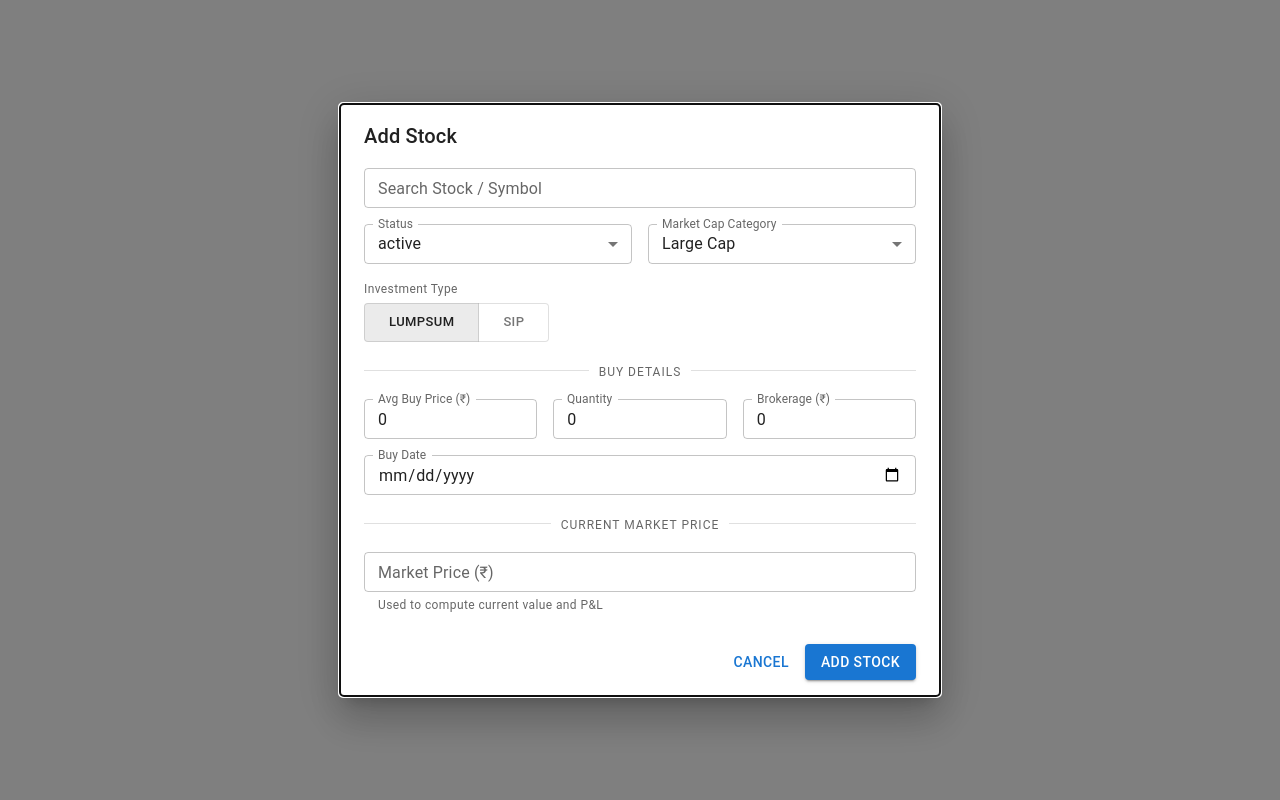
it: StocksDialog › SIP avgPrice=0 branch shows '—' when quantity=0 (L231)
The image size is (1280, 800).
Click the button "SIP" at (514,323), box [478,304,549,342]
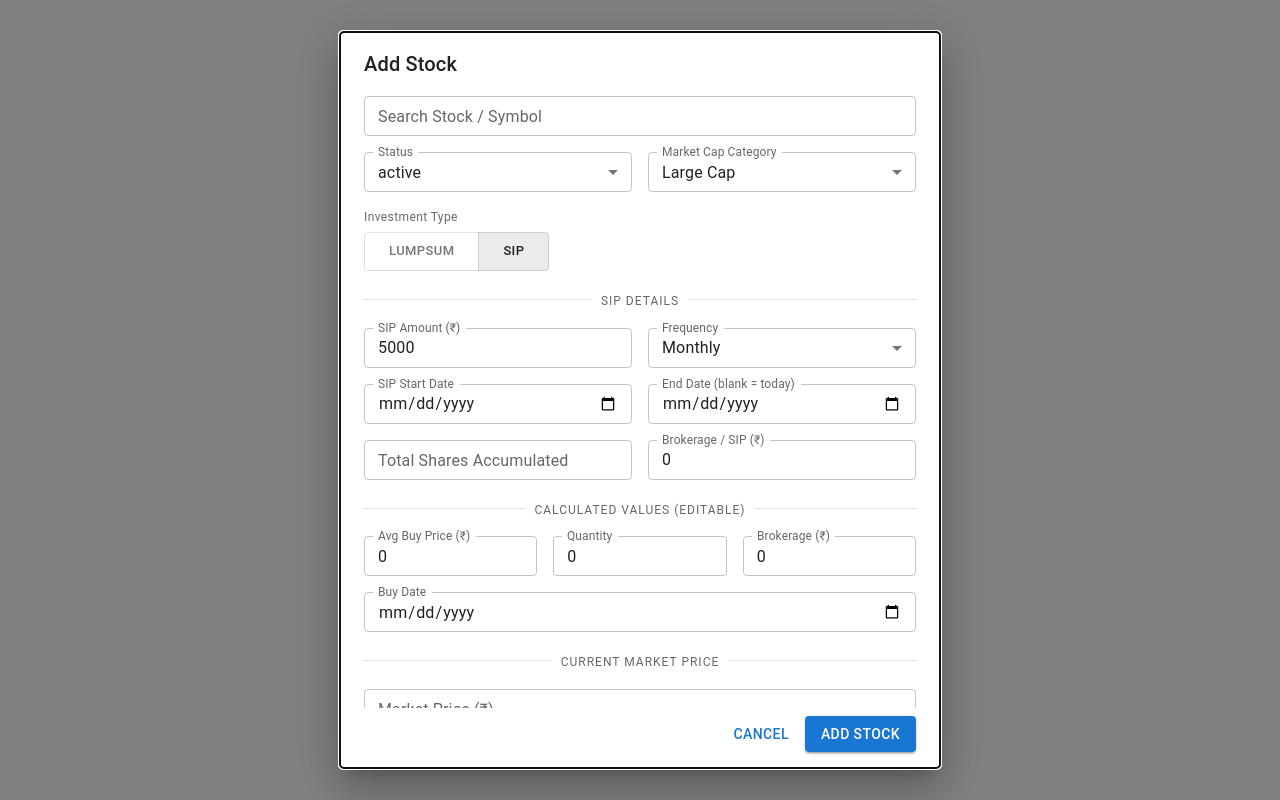
Type "2020-01-01" into the date field labelled "SIP Start Date" at (498,404), box [364,384,632,424]
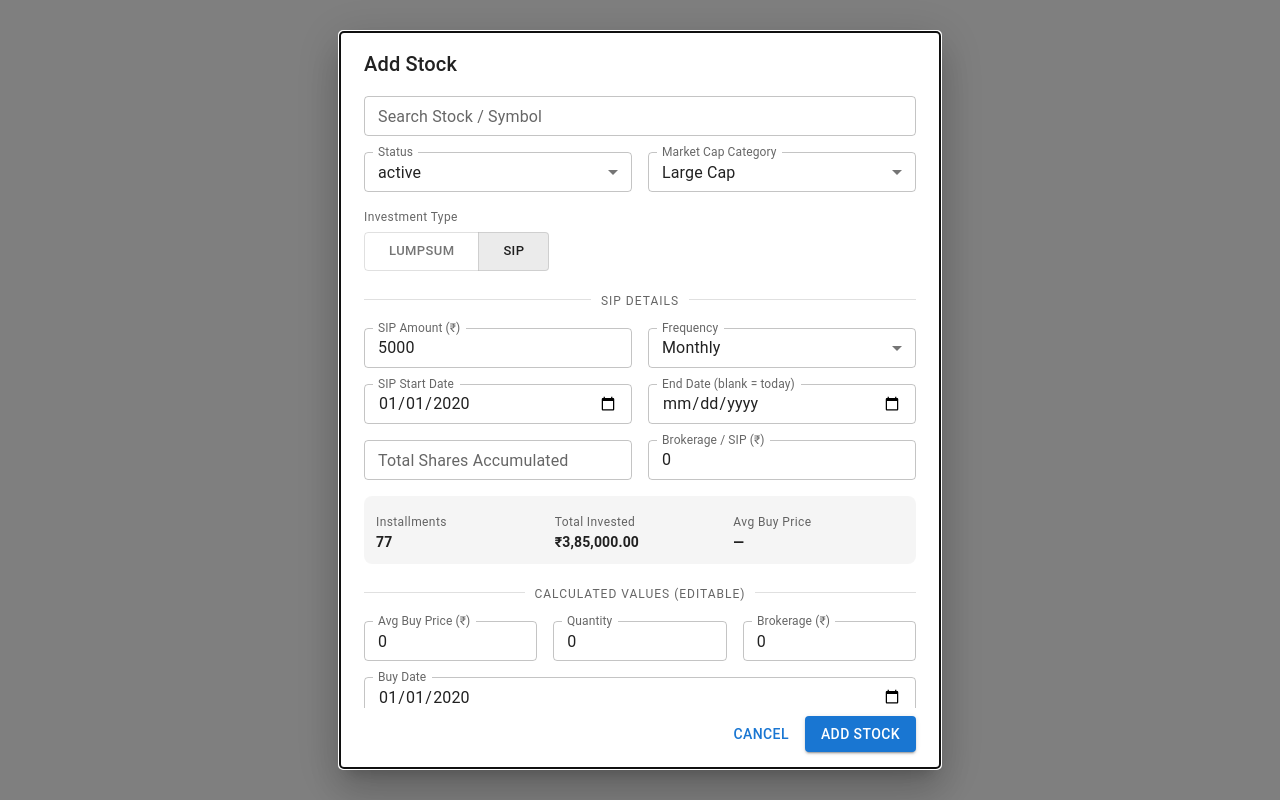
expect the text "—" is shown: met, box [733,534,744,550]
